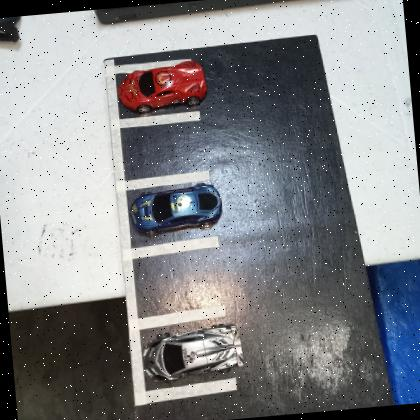Car: (140, 320, 246, 384), (126, 180, 225, 239), (114, 57, 209, 116)
